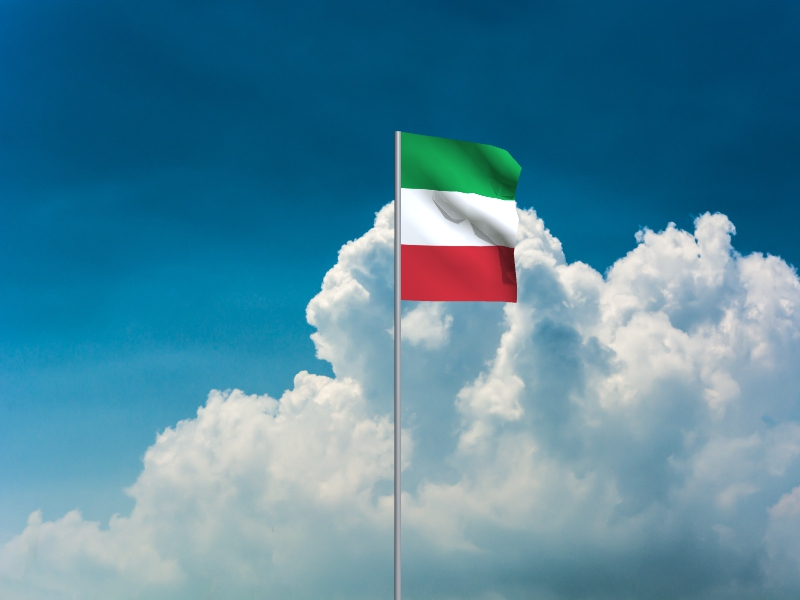it: (402, 132, 523, 304)
